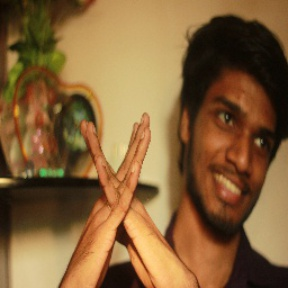W: (63, 101, 183, 281)
